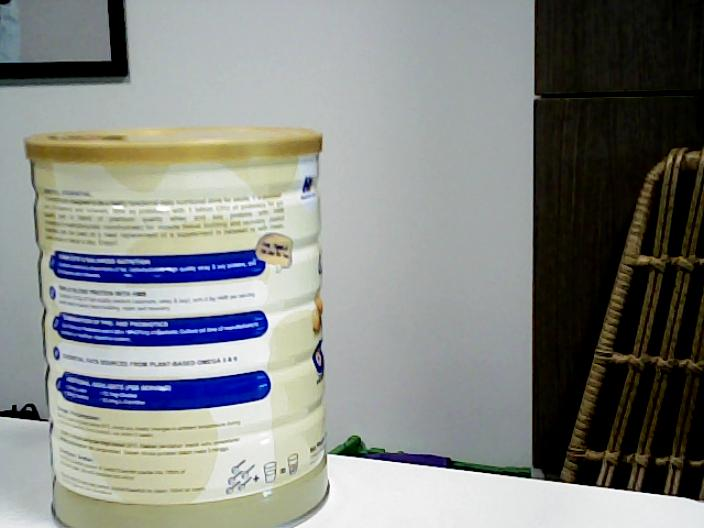Adult_Milk_800-899g_Halal_NonHealthy: (29, 125, 329, 528)
